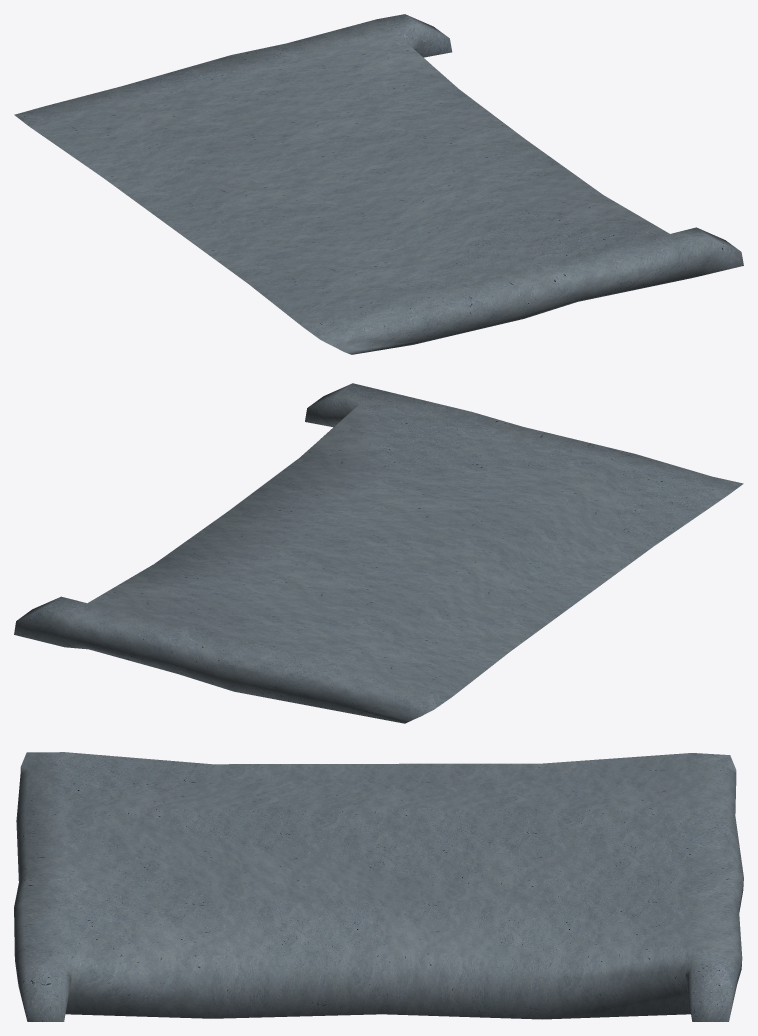
The model's file is BuildingSnow1-transformed.glb.
The picture shows the model from 3 angles, top to bottom: view 1: azimuth 30°, elevation 25°; view 2: azimuth 150°, elevation 25°; view 3: azimuth 270°, elevation 25°; orthographic projection. The views are drawn at different scales.
Visible parts, largest first — view 1: dlc2skaalvilhousewind01_59.002; view 2: dlc2skaalvilhousewind01_59.002; view 3: dlc2skaalvilhousewind01_59.002.
Boxes of the visible parts, <box> form: dlc2skaalvilhousewind01_59.002: <box>14,14,743,354</box>; dlc2skaalvilhousewind01_59.002: <box>14,383,743,723</box>; dlc2skaalvilhousewind01_59.002: <box>14,752,743,1021</box>.
Bounding box in the file's own units: 5.11 × 0.6575 × 6.68.
Materials: 1 (1 with a texture image).
